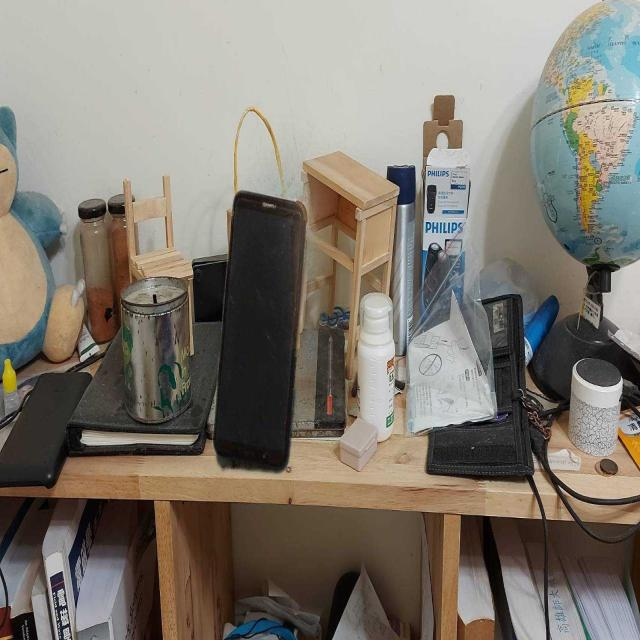Smartphone: (210, 177, 314, 492), (0, 360, 95, 507)
